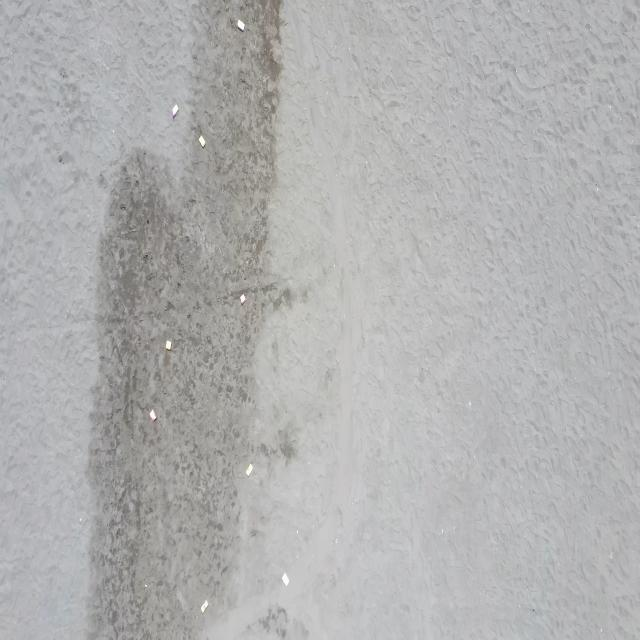Garbage: (244, 464, 252, 475), (200, 600, 207, 612), (148, 409, 155, 420), (236, 20, 243, 31), (172, 104, 178, 116), (281, 572, 287, 584), (164, 341, 171, 350), (240, 293, 246, 303), (199, 135, 204, 147), (143, 583, 147, 587)
